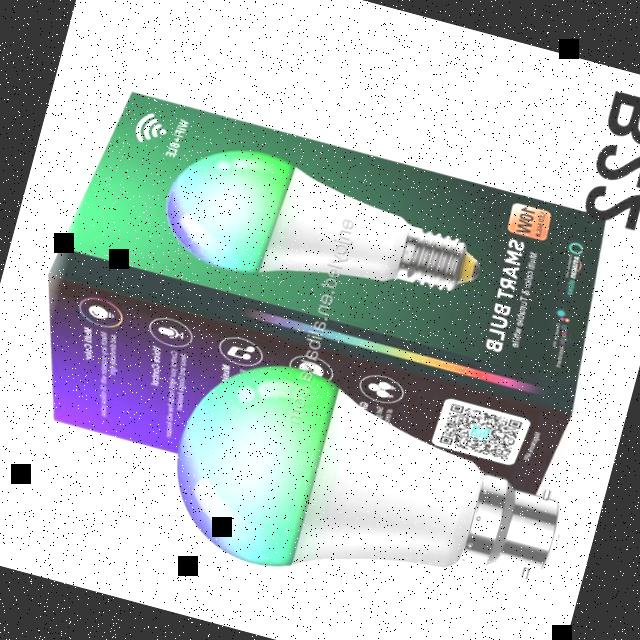light_bulb: (142, 338, 583, 640)
